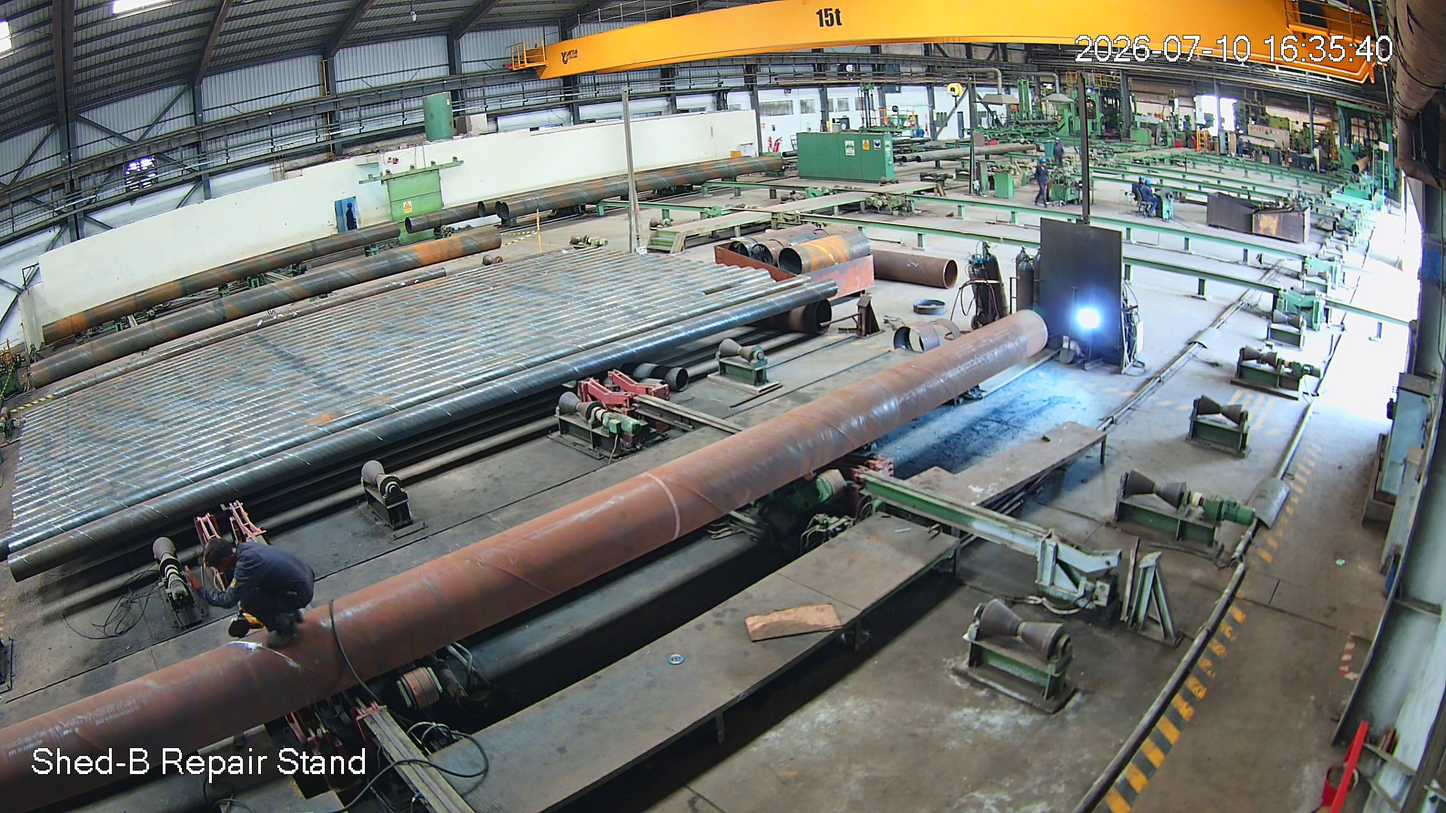Person: (176, 532, 356, 686)
